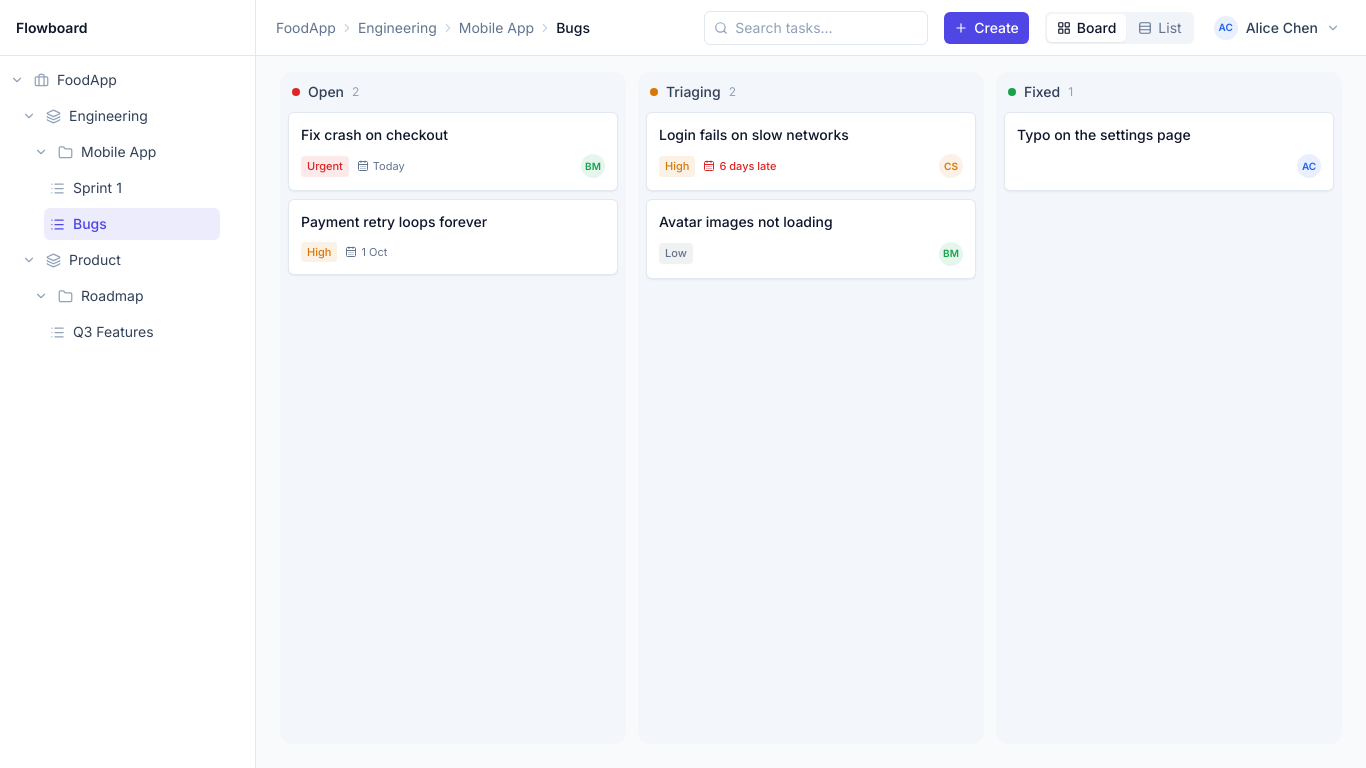
Creating a task › creates from a title alone
Click the button "Create" at (986, 28), box [944,12,1029,44]
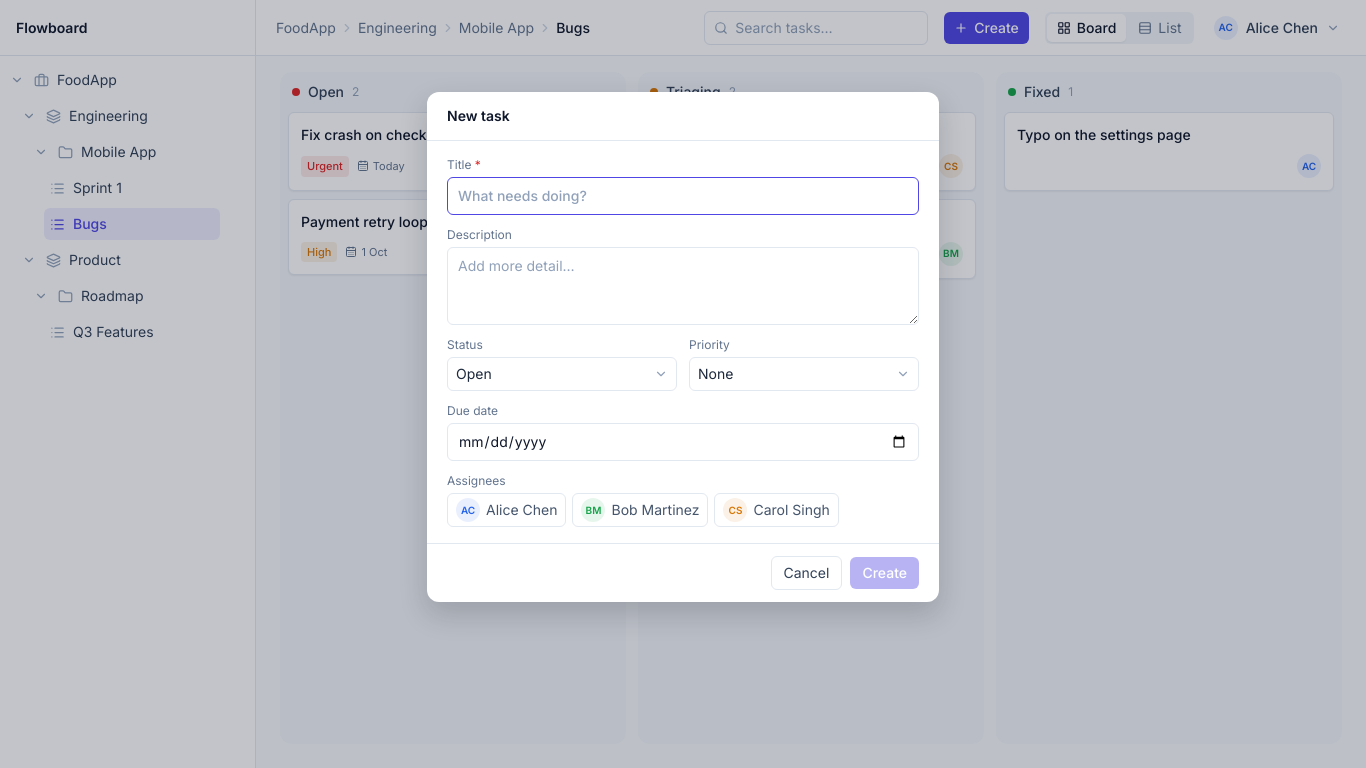
Type "Check the logs" into the field labelled "Title" at (683, 196), box [447,177,919,215]
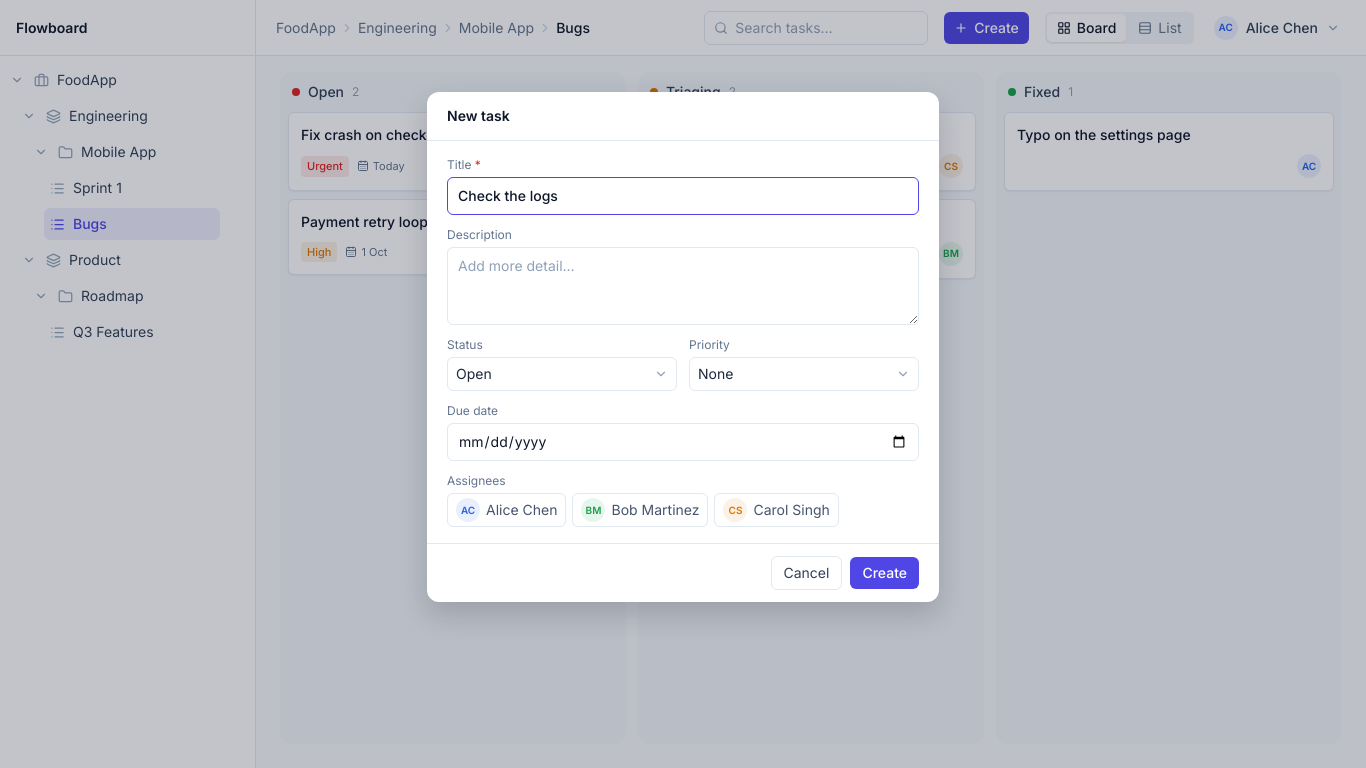
Click the button "Create" at (885, 573), box [850,557,919,589]
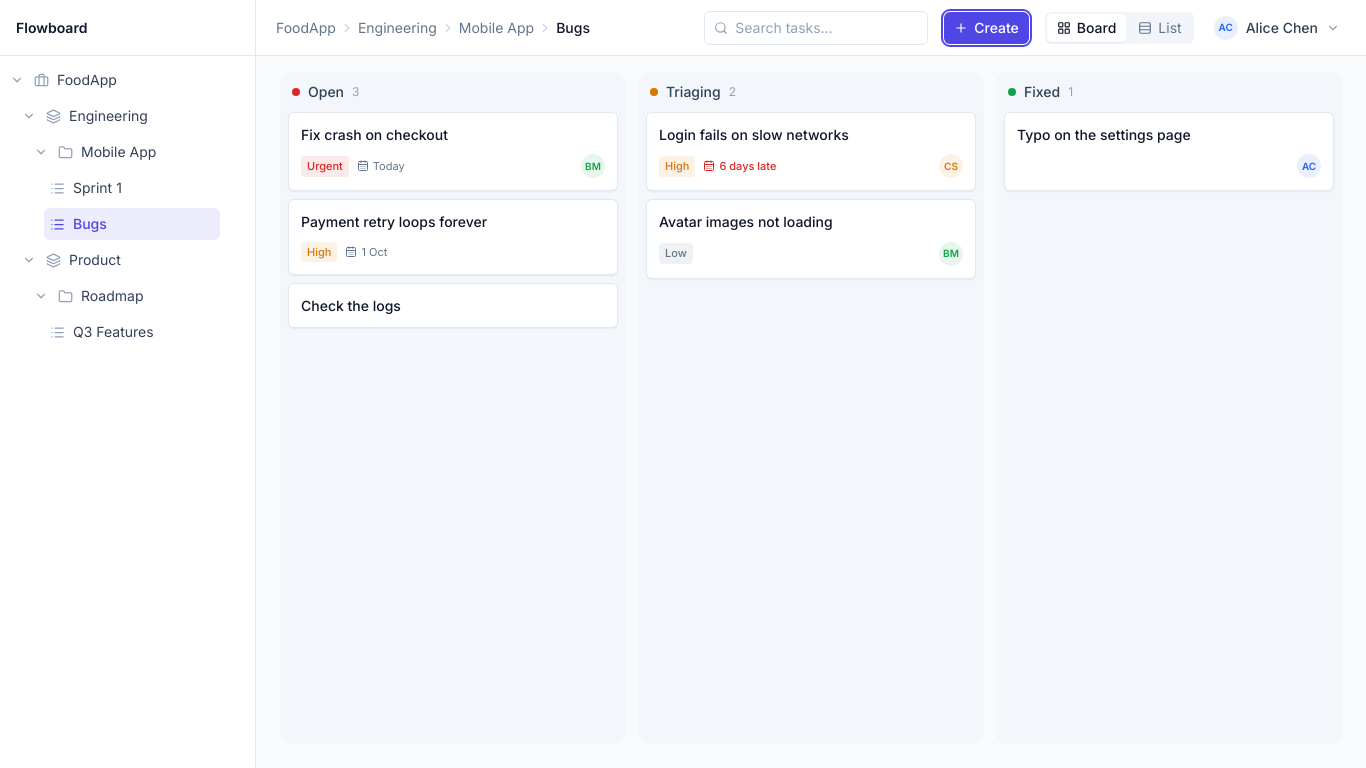
Result: the heading "Check the logs" is shown at [301,297,401,314]
